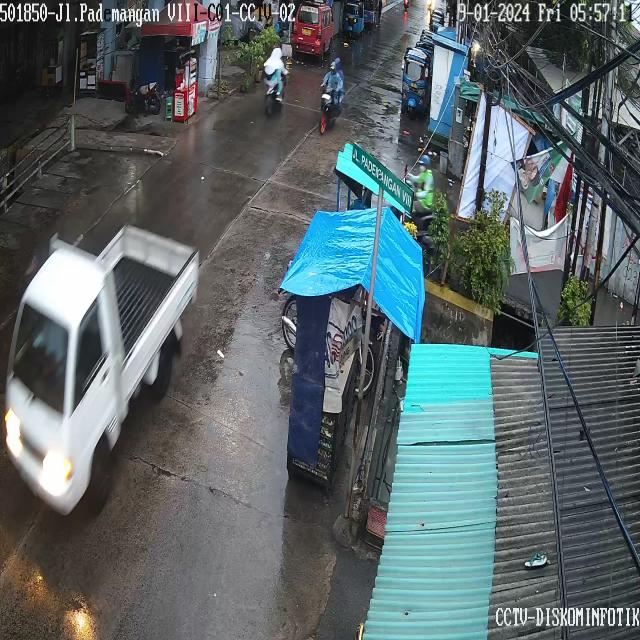Gerobak: (170, 42, 208, 135)
Terpal: (274, 208, 409, 294)
